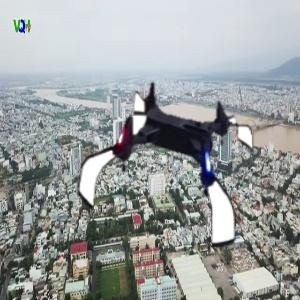drone: (73, 73, 259, 259)
